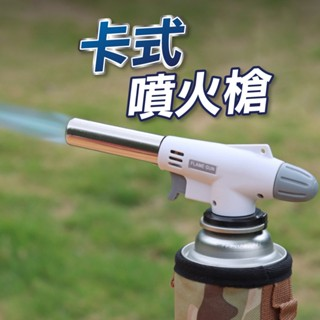gastorch: (64, 115, 320, 319)
